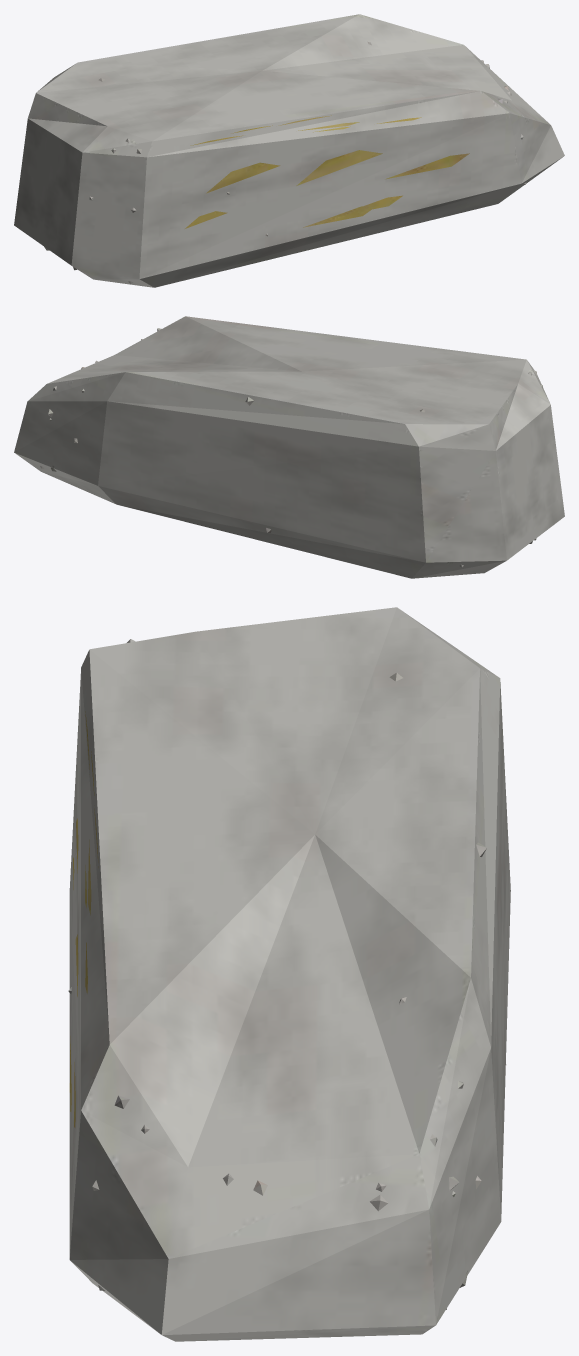
File: D29_concrete_chunks_v3.glb
The picture shows the model from 3 angles, top to bottom: view 1: azimuth 30°, elevation 25°; view 2: azimuth 150°, elevation 25°; view 3: azimuth 270°, elevation 25°; orthographic projection. The views are drawn at different scales.
Parts seen in each view (by area): view 1: Chipped Safety Curb; view 2: Chipped Safety Curb; view 3: Chipped Safety Curb.
Part boxes in pixels (box(x1,y1,x2,y2)): Chipped Safety Curb: box(14, 14, 564, 287); Chipped Safety Curb: box(14, 316, 564, 578); Chipped Safety Curb: box(68, 607, 510, 1341).
Bounding box in the file's own units: 0.6 × 0.1749 × 0.2347.
3 materials, 3 textured.
